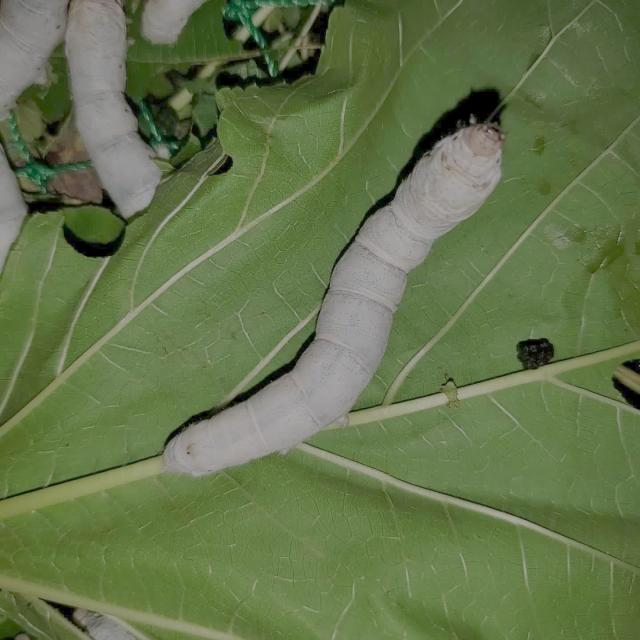Healthy: (166, 107, 511, 483)
